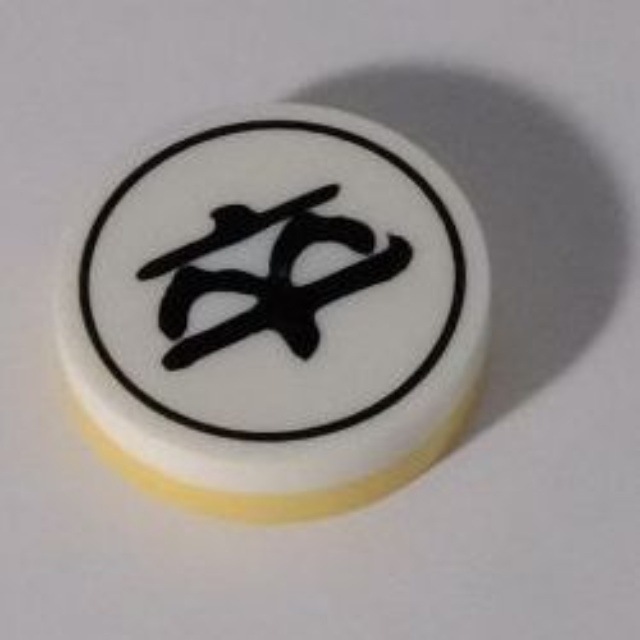black_chot: (53, 94, 502, 533)
